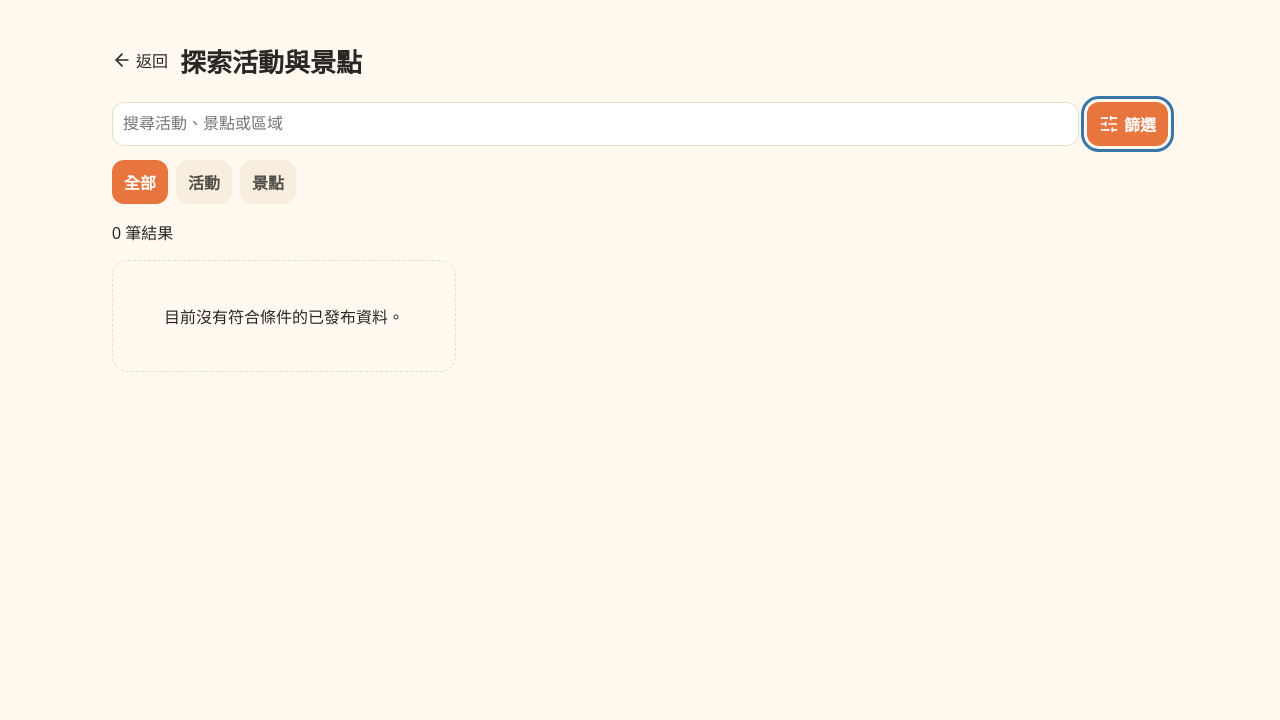
Test: M2 discovery interactions › keeps one selected Explore tab and returns focus after closing filters with Escape
Step 1. Click the button "篩選" → (1128, 124), box x1=1087 y1=102 x2=1168 y2=146
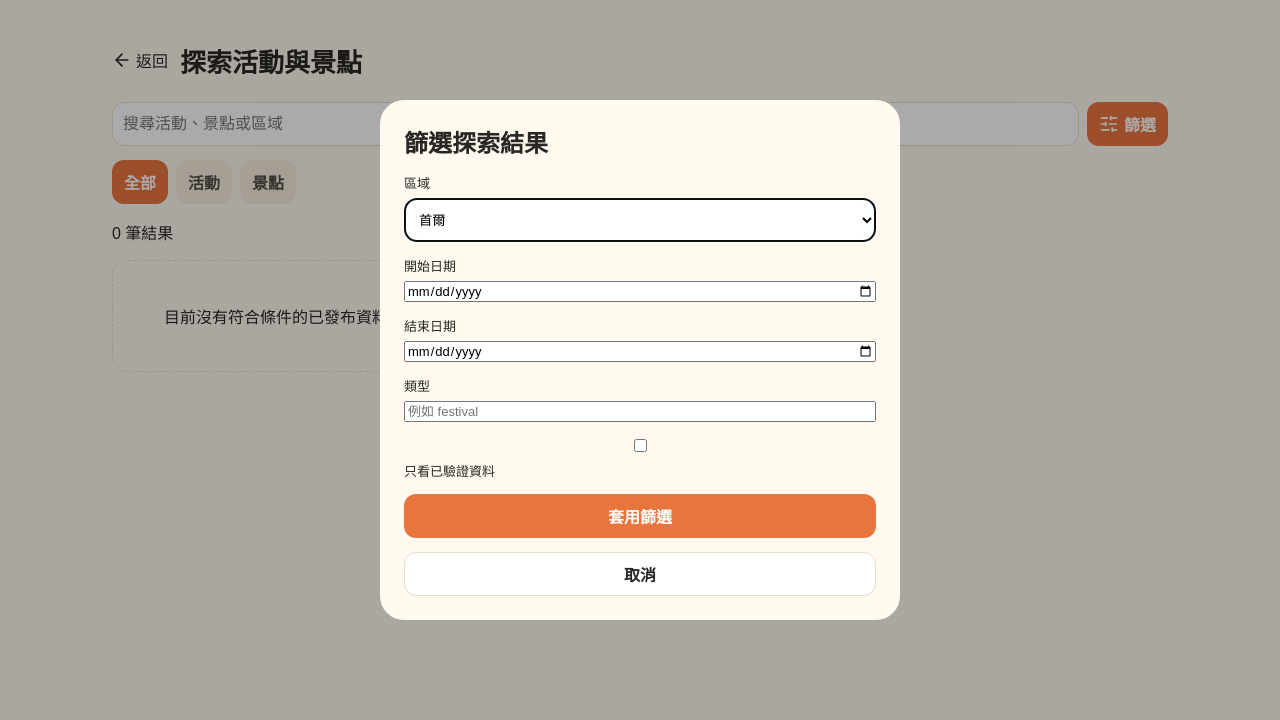
Expected: the dialog "篩選探索結果" is shown
Step 2. Press Escape
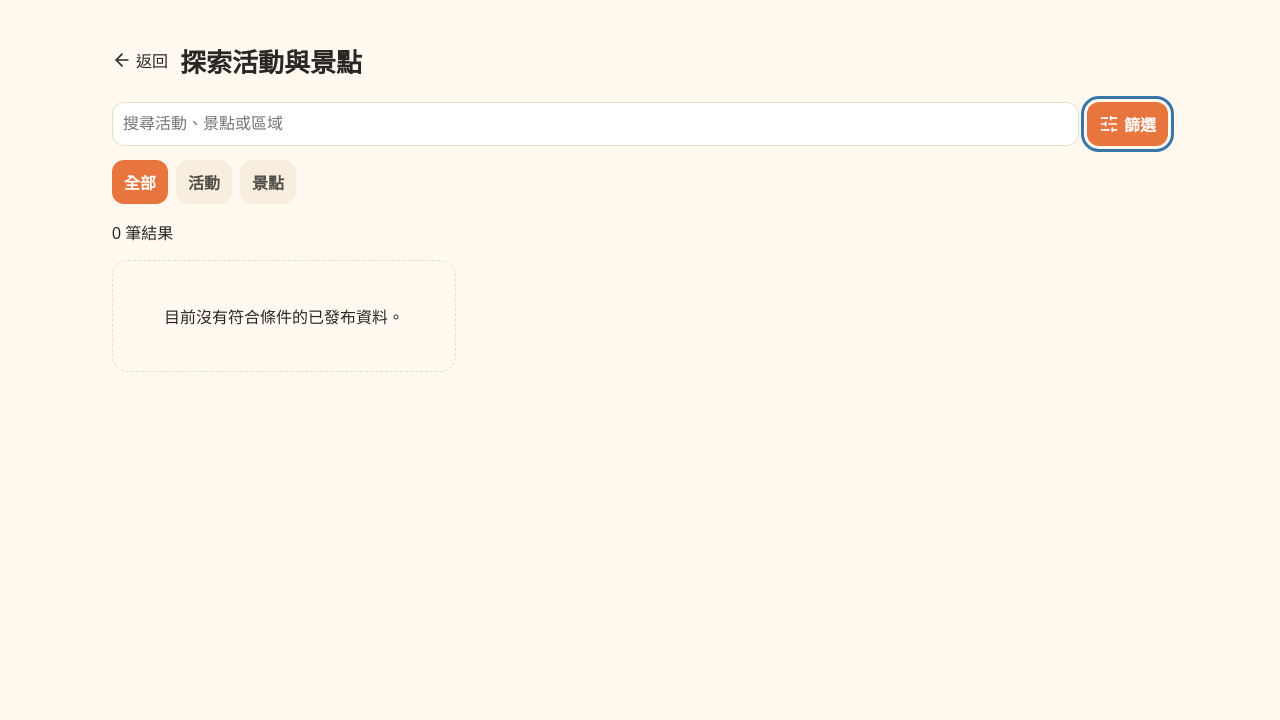
Expected: the dialog is gone
